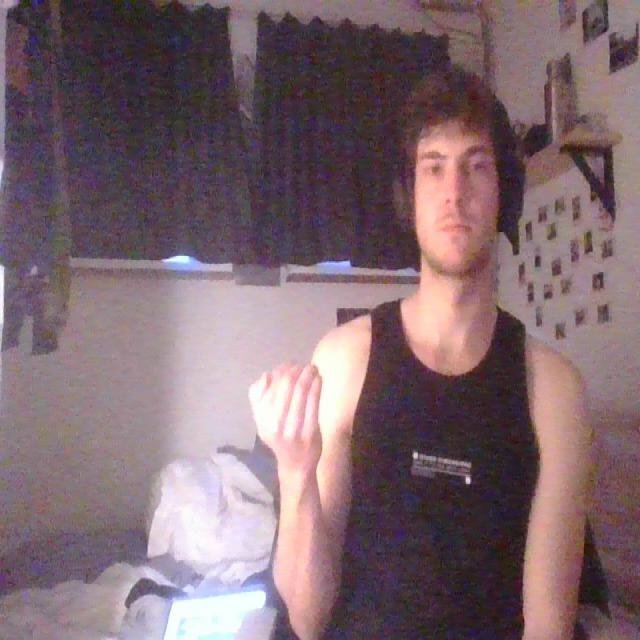forward: (242, 357, 336, 475)
